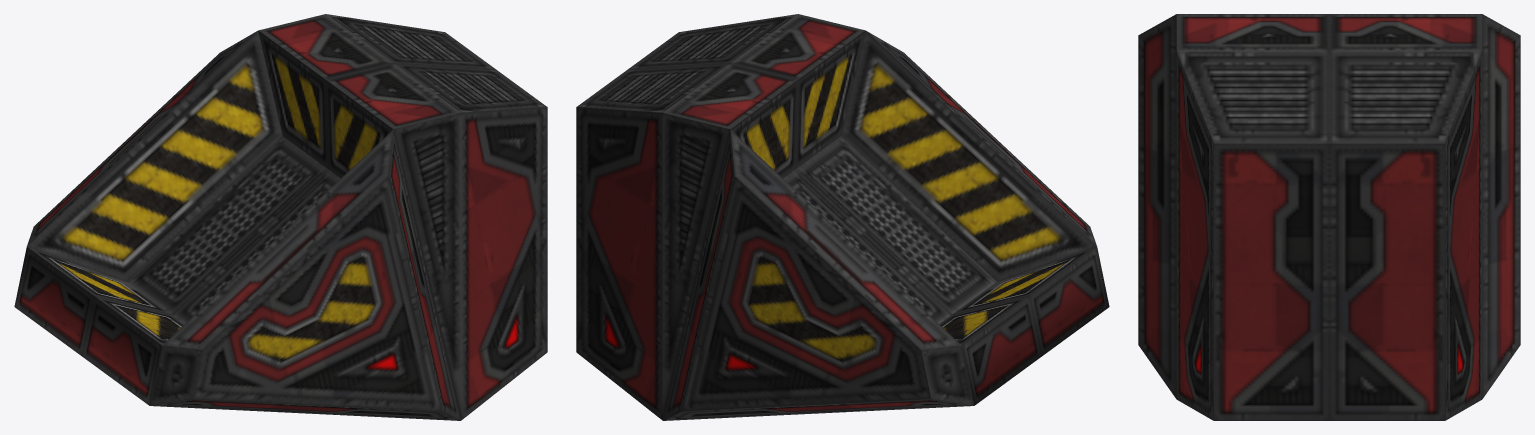
File: BFP_ConstNanoBotBay01.FBX
3 renders of one model, left to right at view 1: azimuth 30°, elevation 25°; view 2: azimuth 150°, elevation 25°; view 3: azimuth 270°, elevation 25°, orthographic. The views are drawn at different scales.
Parts seen in each view (by area): view 1: NanoBotBayMain; view 2: NanoBotBayMain; view 3: NanoBotBayMain.
Part boxes in pixels (<box>): NanoBotBayMain: <box>14,14,547,420</box>; NanoBotBayMain: <box>576,14,1109,420</box>; NanoBotBayMain: <box>1138,14,1520,420</box>.
Bounding box in the file's own units: 142 × 101 × 100.
1 material, 1 textured.
